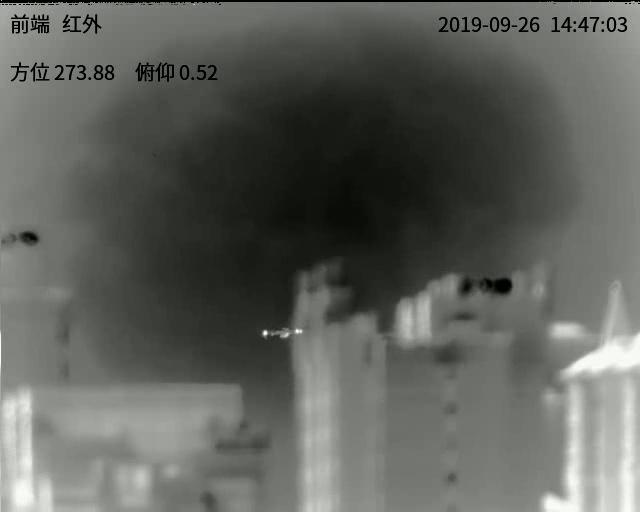DRONE: (260, 325, 304, 342)
